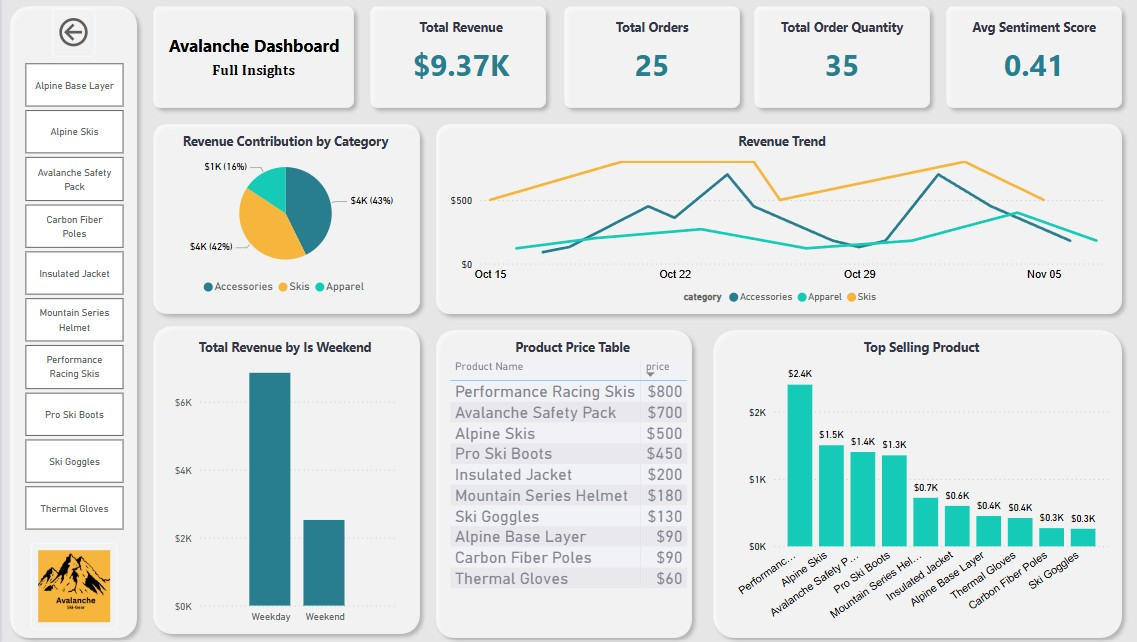

This screenshot's page, from the dashboard's own definition file:
{"tool":"powerbi","page":{"name":"Sales & Product","canvas":[1280,720],"ordinal":1},"visuals":[{"type":"shape","box":[0,0,158.9,720],"z":0},{"type":"shape","box":[1040,0,213.3,131.1],"z":1000},{"type":"shape","box":[400,0,213.3,131.1],"z":2000},{"type":"shape","box":[615.6,0,213.3,131.1],"z":3000},{"type":"shape","box":[826.7,0,213.3,131.1],"z":4000},{"type":"shape","box":[158.9,0,241.1,131.1],"z":5000},{"type":"shape","box":[158.9,355.6,314.4,360],"z":6000},{"type":"shape","box":[473.3,360,302.2,360],"z":7000},{"type":"shape","box":[158.9,131.1,314.4,228.9],"z":8000},{"type":"shape","box":[473.3,131.1,780,228.9],"z":9000},{"type":"shape","box":[781.1,360,472.2,360],"z":10000},{"type":"textbox","box":[167.8,34.4,224.4,42.2],"z":11000},{"type":"textbox","box":[213.3,65.6,132.2,36.7],"z":12000},{"type":"card","title":"Total Revenue","fields":{"Values":["order-history.Total Revenue"]},"box":[420,22.2,180,85.6],"z":13000},{"type":"card","title":"Total Orders","fields":{"Values":["order-history.Total orders"]},"box":[633.3,22.2,177.8,85.6],"z":14000},{"type":"card","title":"Total Order Quantity","fields":{"Values":["Sum(order-history.Quantity Ordered)"]},"box":[844.4,22.2,177.8,85.6],"z":15000},{"type":"card","title":"Avg Sentiment Score","fields":{"Values":["customer_reviews.Avg Sentiment"]},"box":[1056.7,22.2,180,85.6],"z":16000},{"type":"clusteredColumnChart","title":"Top Selling Product","fields":{"Category":["order-history.Product Name"],"Y":["order-history.Total Revenue"]},"box":[808.9,377.8,425.6,324.4],"z":17000},{"type":"lineChart","title":"Revenue Trend","fields":{"Y":["order-history.Total Revenue"],"Series":["product-catalog-with-category-label.category"],"Category":["DateTable.Date"]},"box":[492.2,148.9,748.9,202.2],"z":18000},{"type":"pieChart","title":"Revenue Contribution by Category","fields":{"Y":["order-history.Total Revenue"],"Category":["product-catalog-with-category-label.category"]},"box":[171.1,148.9,287.8,191.1],"z":19000},{"type":"tableEx","title":"Product Price Table","fields":{"Values":["order-history.Product Name","product-catalog-with-category-label.price"]},"box":[492.2,377.8,283.3,324.4],"z":20000},{"type":"clusteredColumnChart","fields":{"Category":["DateTable.Is Weekend"],"Y":["order-history.Total Revenue"]},"box":[186.7,377.8,255.6,323.3],"z":21000},{"type":"image","box":[32.2,605.6,95.6,95.6],"z":22000},{"type":"slicer","fields":{"Values":["product-catalog-with-category-label.name"]},"box":[0,65.6,158.9,532.2],"z":22001},{"type":"actionButton","box":[55.6,11.1,47.8,54.4],"z":22002}]}

Visuals, with their boxes in screenshot pixels (x1, y1, x2, y2), scaled from the page's 1280x720 canvas onto the 1137x642 screenshot:
shape: 0:0:141:641
shape: 924:0:1113:117
shape: 355:0:545:117
shape: 547:0:736:117
shape: 734:0:924:117
shape: 141:0:355:117
shape: 141:317:420:638
shape: 420:321:689:641
shape: 141:117:420:321
shape: 420:117:1113:321
shape: 694:321:1113:641
textbox: 149:31:348:68
textbox: 189:58:307:91
"Total Revenue" card: 373:20:533:96
"Total Orders" card: 563:20:720:96
"Total Order Quantity" card: 750:20:908:96
"Avg Sentiment Score" card: 939:20:1099:96
"Top Selling Product" clusteredColumnChart: 719:337:1097:626
"Revenue Trend" lineChart: 437:133:1102:313
"Revenue Contribution by Category" pieChart: 152:133:408:303
"Product Price Table" tableEx: 437:337:689:626
clusteredColumnChart - DateTable.Is Weekend x order-history.Total Revenue: 166:337:393:625
image: 29:540:114:625
slicer - product-catalog-with-category-label.name: 0:58:141:533
actionButton: 49:10:92:58
